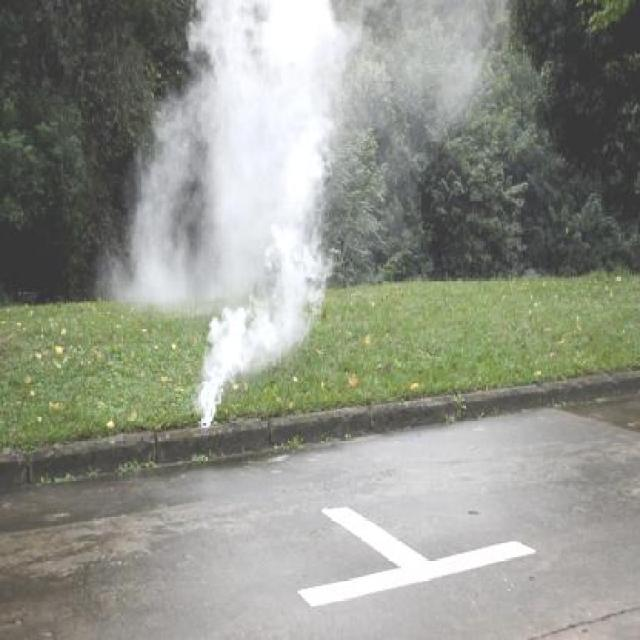Smoke: (99, 0, 524, 431)
